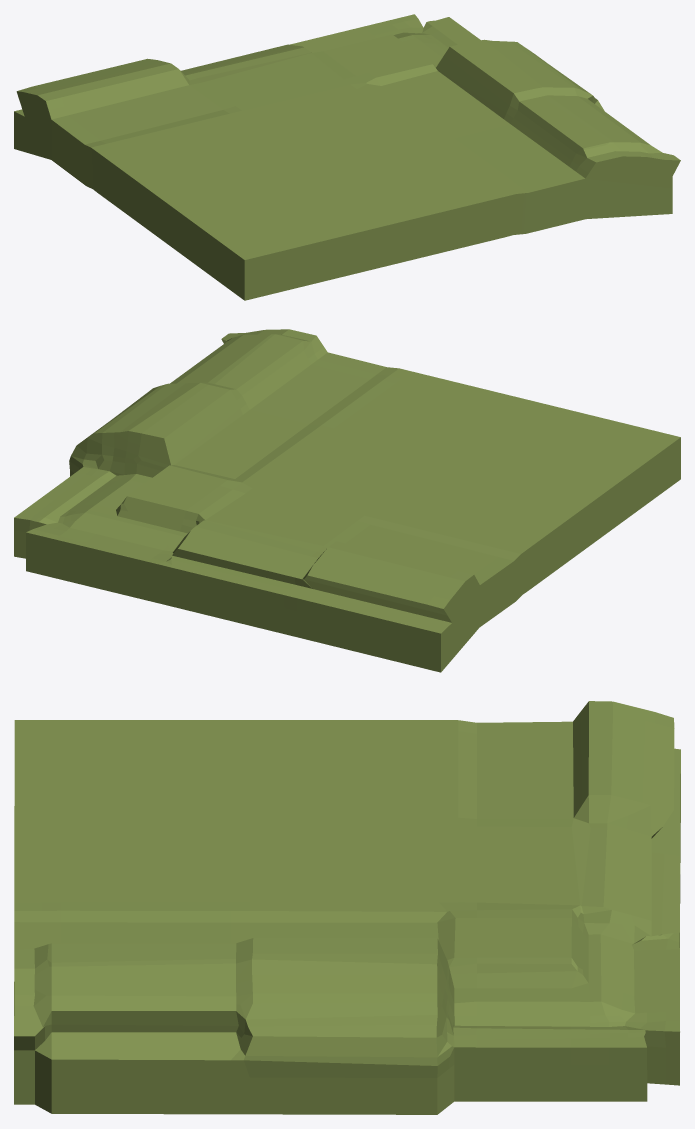
Rendered from Coner_02.fbx.
3 renders of one model, top to bottom at view 1: azimuth 30°, elevation 25°; view 2: azimuth 150°, elevation 25°; view 3: azimuth 270°, elevation 25°, orthographic. The views are drawn at different scales.
Parts seen in each view (by area): view 1: coner2; view 2: coner2; view 3: coner2.
Boxes of the visible parts, x1,y1,x2,y2 form: coner2: [14, 14, 680, 300]; coner2: [14, 329, 680, 672]; coner2: [14, 701, 680, 1114].
Bounding box in the file's own units: 74.74 × 12.64 × 67.55.
